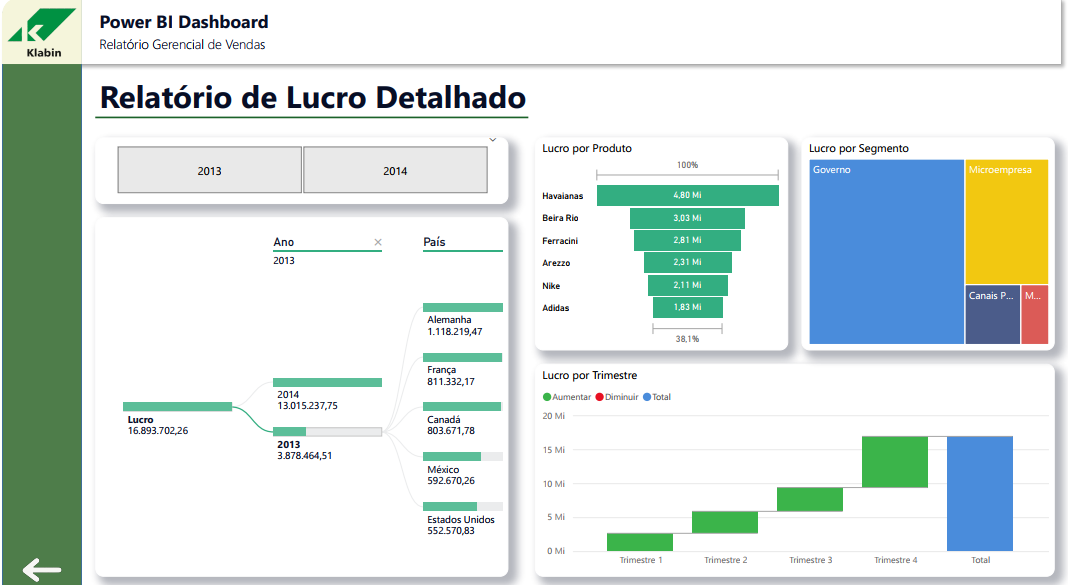

This screenshot's page, from the dashboard's own definition file:
{"tool":"powerbi","page":{"name":"Página 2","canvas":[1280,720],"ordinal":1},"visuals":[{"type":"shape","box":[80,0,1200,96],"z":0},{"type":"shape","box":[0,8,96,80],"z":0,"group":"g1"},{"type":"textbox","box":[112,16,272,48],"z":0,"group":"g2"},{"type":"shape","title":"Linha","box":[112,128,520.3,48],"z":0,"group":"g3"},{"type":"image","title":"botãoSeta","box":[16,672,64,48],"z":0,"group":"g4"},{"type":"image","title":"imagemLogo","box":[0,0,96,96],"z":1000,"group":"g1"},{"type":"textbox","box":[112,48,256,48],"z":1000,"group":"g2"},{"type":"textbox","box":[112,96,544,64],"z":1000,"group":"g3"},{"type":"slicer","fields":{"Values":["financials.Ano"]},"box":[112,176,496,80],"z":1000},{"type":"actionButton","box":[16,672,64,48],"z":1000,"group":"g4"},{"type":"shape","box":[0,8,96,712],"z":2000},{"type":"group","id":"g1","title":"Logo","box":[0,0,96,96],"z":3000},{"type":"group","id":"g2","title":"TituloXSubtitulo","box":[112,16,272,80],"z":4000},{"type":"group","id":"g3","title":"Título","box":[112,96,544,80],"z":5000},{"type":"group","id":"g4","title":"Página anterior","box":[16,672,64,48],"z":6000},{"type":"decompositionTreeVisual","fields":{"ExplainBy":["financials.Ano","financials.País"],"Analyze":["Sum(financials.Lucro)"]},"box":[112,272,496,432],"z":7000},{"type":"funnel","fields":{"Y":["Sum(financials.Lucro)"],"Category":["financials.Produto"]},"box":[640,176,304,256],"z":8000},{"type":"waterfallChart","fields":{"Category":["financials.Nome do Trimestre","financials.Data.Variation.Date Hierarchy.Quarter"],"Y":["Sum(financials.Lucro)"]},"box":[640,448,624,256],"z":9000},{"type":"treemap","fields":{"Group":["financials.Segmento"],"Values":["Sum(financials.Lucro)"]},"box":[960,176,304,256],"z":10000}]}

Visuals, with their boxes in screenshot pixels (x1, y1, x2, y2):
shape: crop(67, 0, 1065, 66)
shape: crop(0, 0, 80, 59)
textbox: crop(93, 0, 320, 39)
"Linha" shape: crop(93, 92, 526, 132)
"botãoSeta" image: crop(13, 545, 67, 584)
"imagemLogo" image: crop(0, 0, 80, 66)
textbox: crop(93, 26, 306, 66)
textbox: crop(93, 66, 546, 119)
slicer - financials.Ano: crop(93, 132, 506, 199)
actionButton: crop(13, 545, 67, 584)
shape: crop(0, 0, 80, 584)
"Logo" group: crop(0, 0, 80, 66)
"TituloXSubtitulo" group: crop(93, 0, 320, 66)
"Título" group: crop(93, 66, 546, 132)
"Página anterior" group: crop(13, 545, 67, 584)
decompositionTreeVisual - financials.Ano x financials.País: crop(93, 212, 506, 572)
funnel - Sum(financials.Lucro) x financials.Produto: crop(533, 132, 785, 345)
waterfallChart - financials.Nome do Trimestre x financials.Data.Variation.Date Hierarchy.Quarter: crop(533, 359, 1052, 572)
treemap - financials.Segmento x Sum(financials.Lucro): crop(799, 132, 1052, 345)
